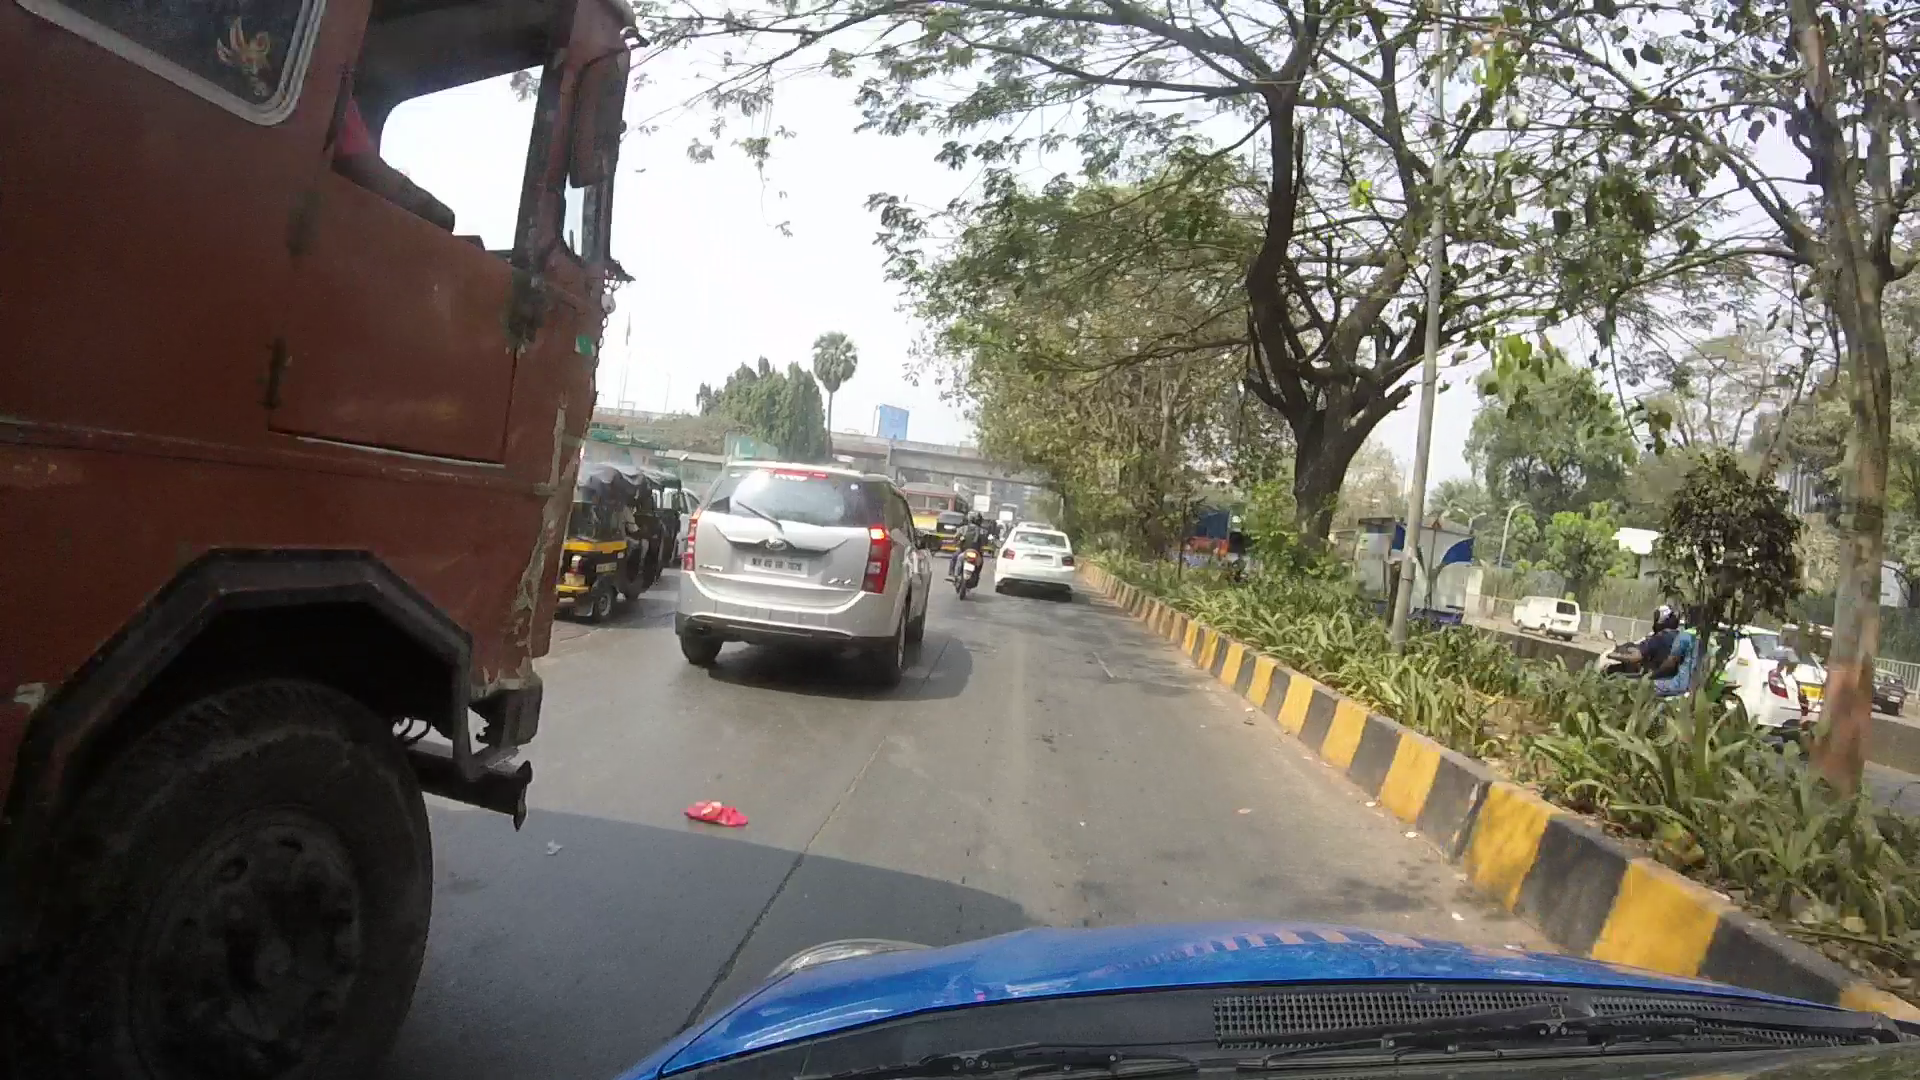bike/scooter: (940, 513, 1002, 604)
car: (680, 460, 931, 692), (1002, 522, 1081, 592)
rickshaw: (549, 465, 673, 611)
truck: (94, 11, 575, 1069)
